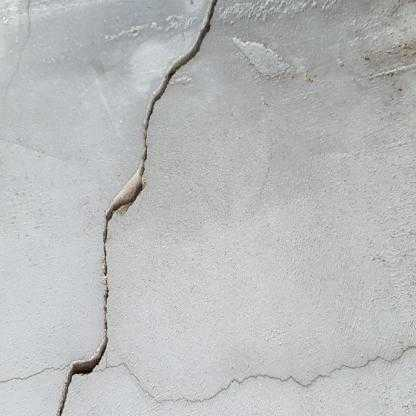crack: (57, 0, 217, 413), (96, 344, 416, 405), (1, 363, 69, 384)
